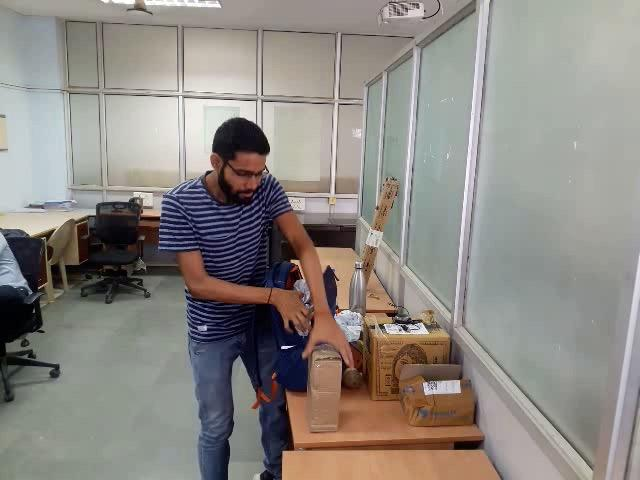shoplifting: (198, 271, 408, 362)
